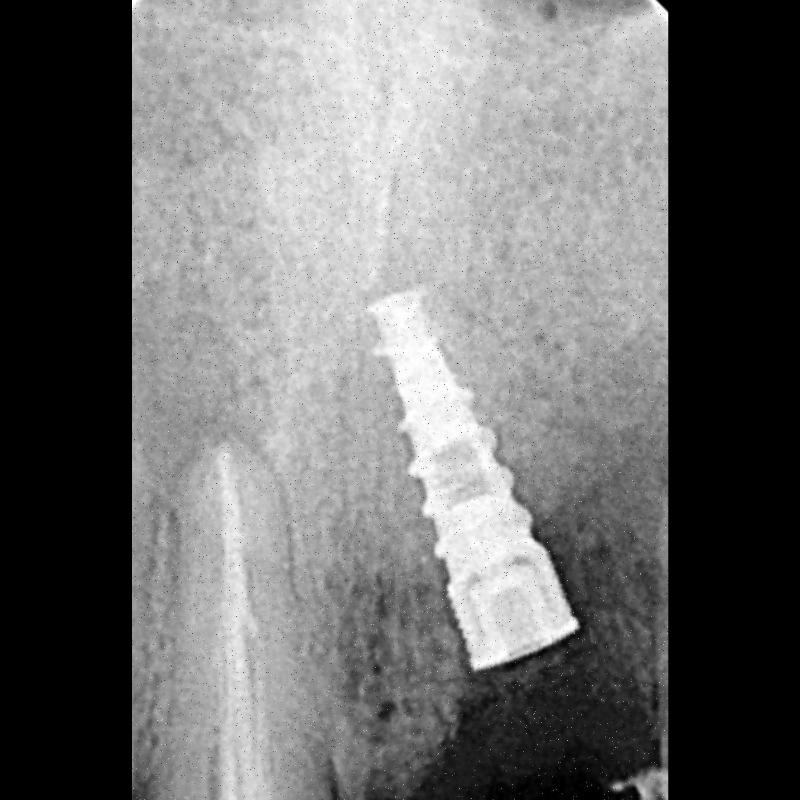NORIS: (372, 274, 580, 680)
